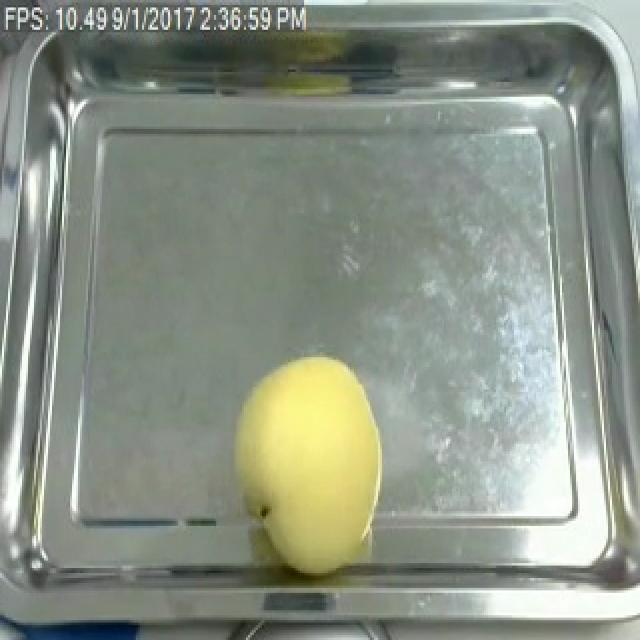Fruit: (220, 345, 394, 580)
